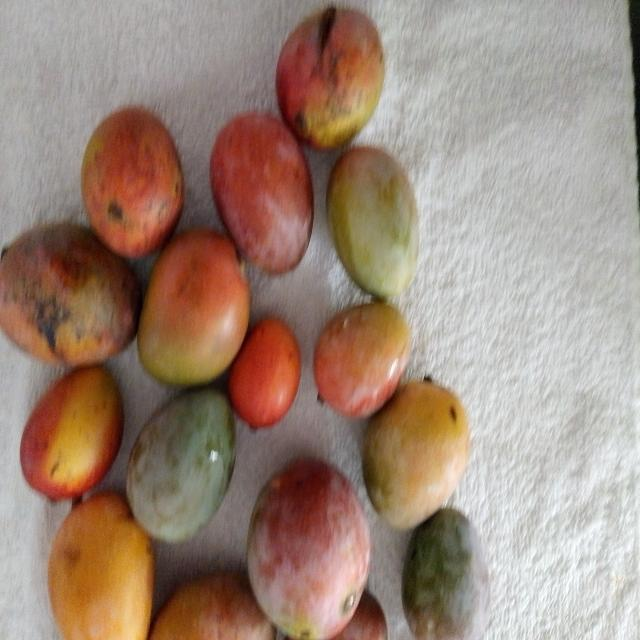mango: (247, 460, 373, 640), (0, 223, 140, 365), (123, 381, 238, 549), (138, 228, 249, 385), (326, 146, 425, 308), (363, 381, 470, 529), (81, 107, 183, 257), (49, 493, 153, 639), (20, 366, 123, 499), (309, 300, 416, 420), (402, 509, 489, 639)
